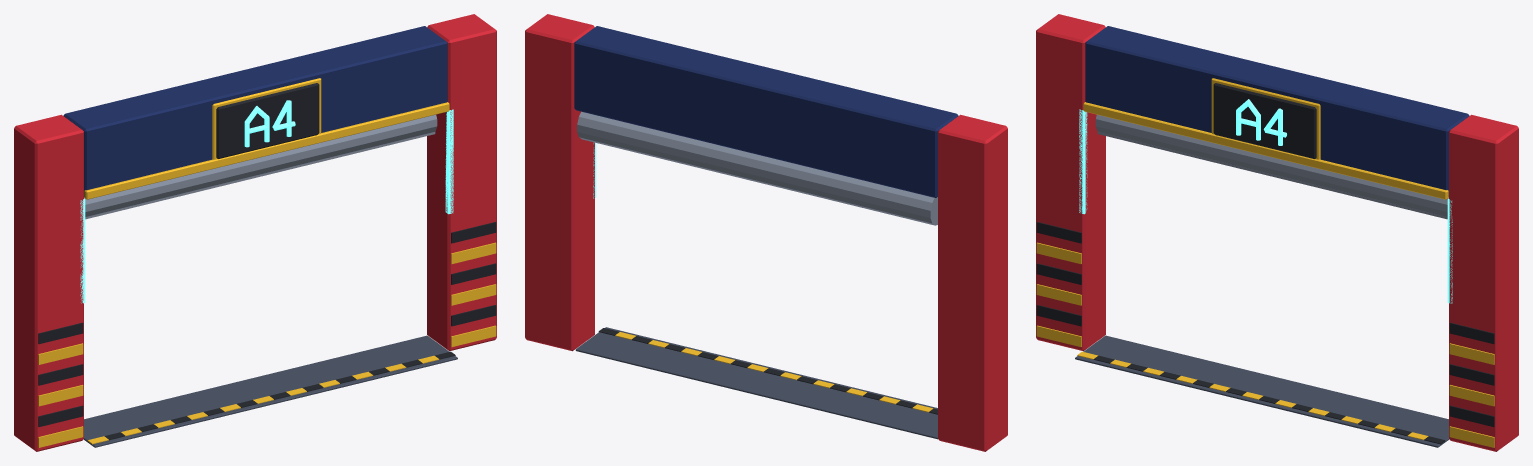
Rendered from GarageFront_A4.fbx.
The picture shows the model from 3 angles, left to right: view 1: azimuth 30°, elevation 25°; view 2: azimuth 150°, elevation 25°; view 3: azimuth 330°, elevation 25°; orthographic projection.
Visible parts, largest first — view 1: GarageFront_A4, Neon_Cyan; view 2: GarageFront_A4; view 3: GarageFront_A4, Neon_Cyan.
Boxes of the visible parts, box(x1,y1,x2,y2) form: GarageFront_A4: box(14, 14, 496, 451); Neon_Cyan: box(80, 100, 453, 303); GarageFront_A4: box(525, 14, 1007, 451); GarageFront_A4: box(1036, 14, 1518, 451); Neon_Cyan: box(1079, 99, 1452, 303).
Bounding box in the file's own units: 28 × 18 × 3.53.
2 materials, 1 textured.
